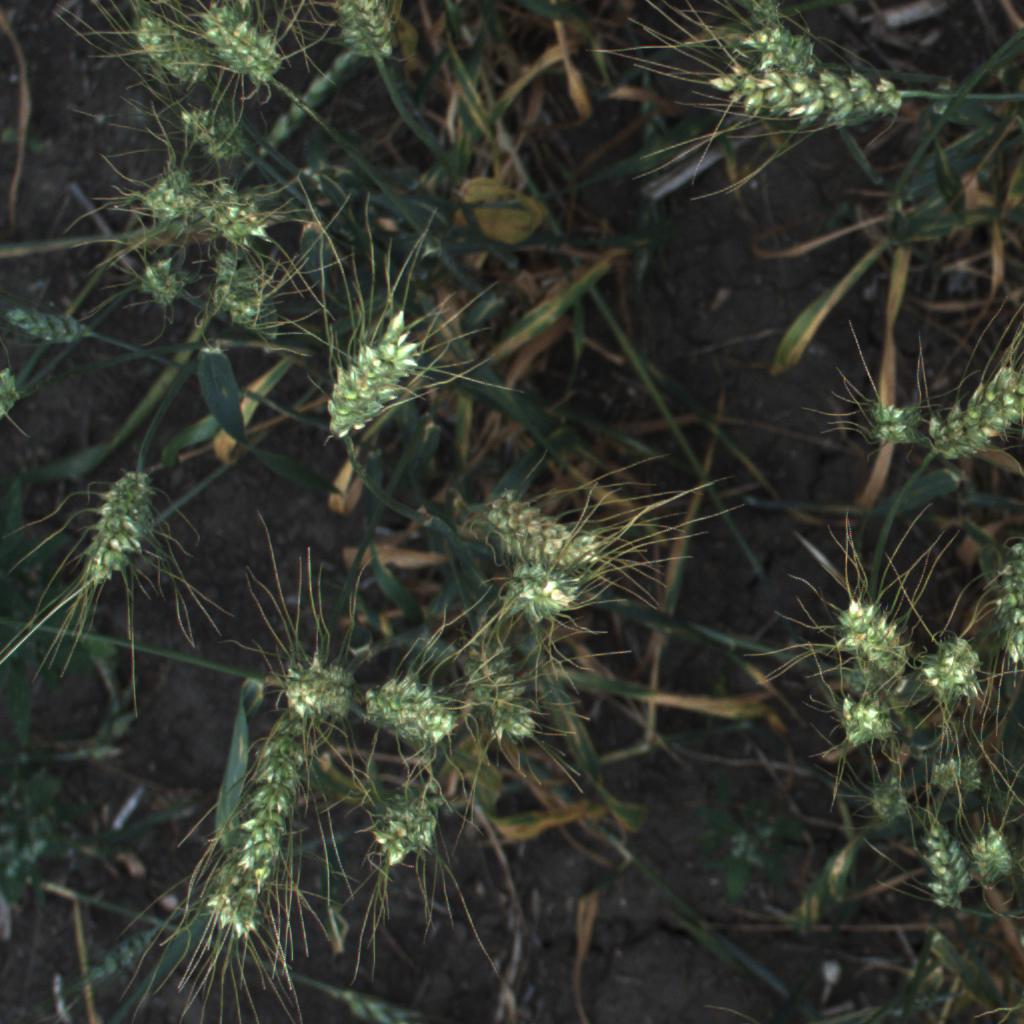0-0: (181, 709, 317, 950), (309, 303, 434, 466), (702, 54, 910, 142), (67, 431, 165, 600), (473, 485, 620, 576), (923, 366, 1024, 470), (463, 635, 552, 752), (461, 546, 586, 628), (357, 778, 459, 877), (341, 675, 464, 757), (911, 806, 981, 934), (193, 0, 291, 90), (266, 641, 365, 729), (829, 587, 915, 687), (114, 12, 217, 93), (916, 609, 986, 721), (976, 512, 1024, 673), (192, 177, 284, 258), (207, 245, 282, 334), (0, 293, 104, 356), (854, 385, 940, 459), (848, 761, 921, 847), (727, 22, 833, 79), (167, 104, 264, 165), (319, 0, 408, 66), (129, 157, 208, 231), (124, 245, 194, 324), (821, 690, 900, 754), (922, 745, 999, 809), (969, 805, 1011, 904), (0, 365, 42, 432)
